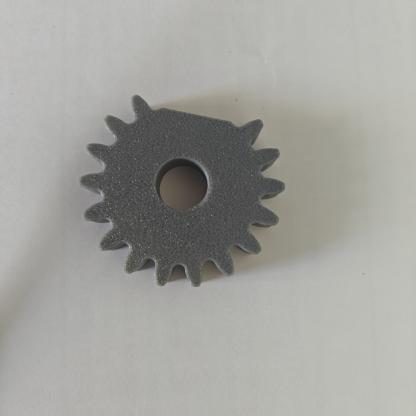defect: (128, 88, 273, 165)
gear: (57, 81, 312, 305)
